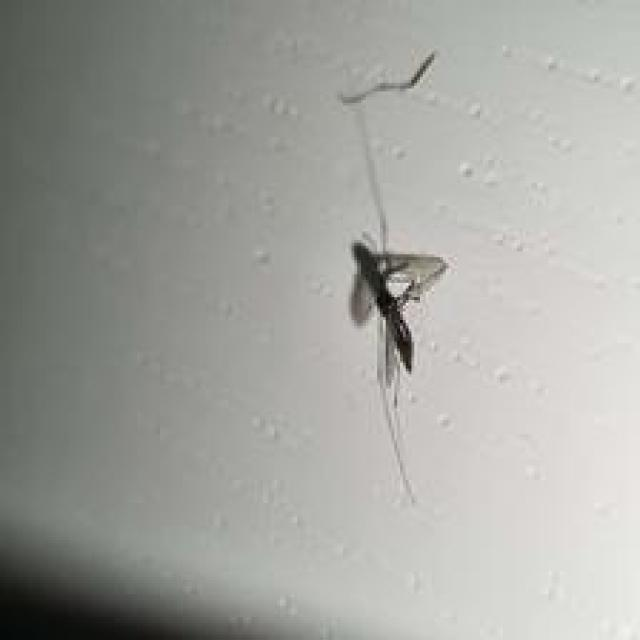Aedes albopictus: (336, 48, 450, 506)
